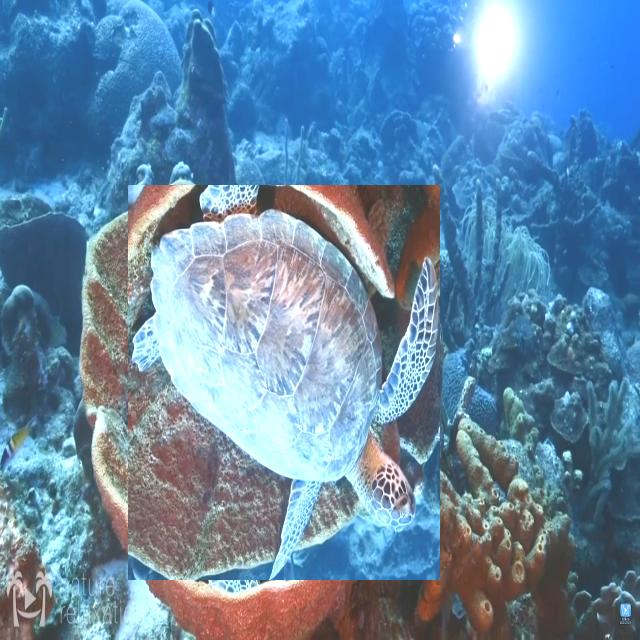Sea turtle: (128, 185, 440, 580)
